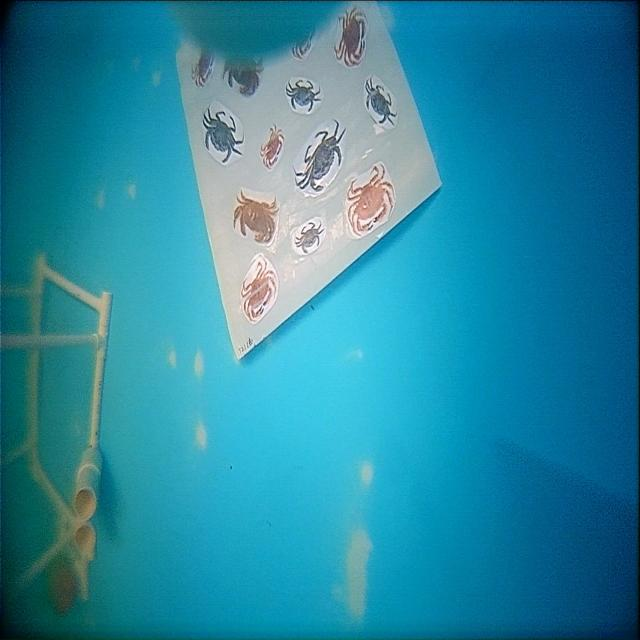GreenCrab: (295, 121, 345, 191), (203, 108, 244, 164), (365, 79, 397, 124), (286, 80, 320, 112)
